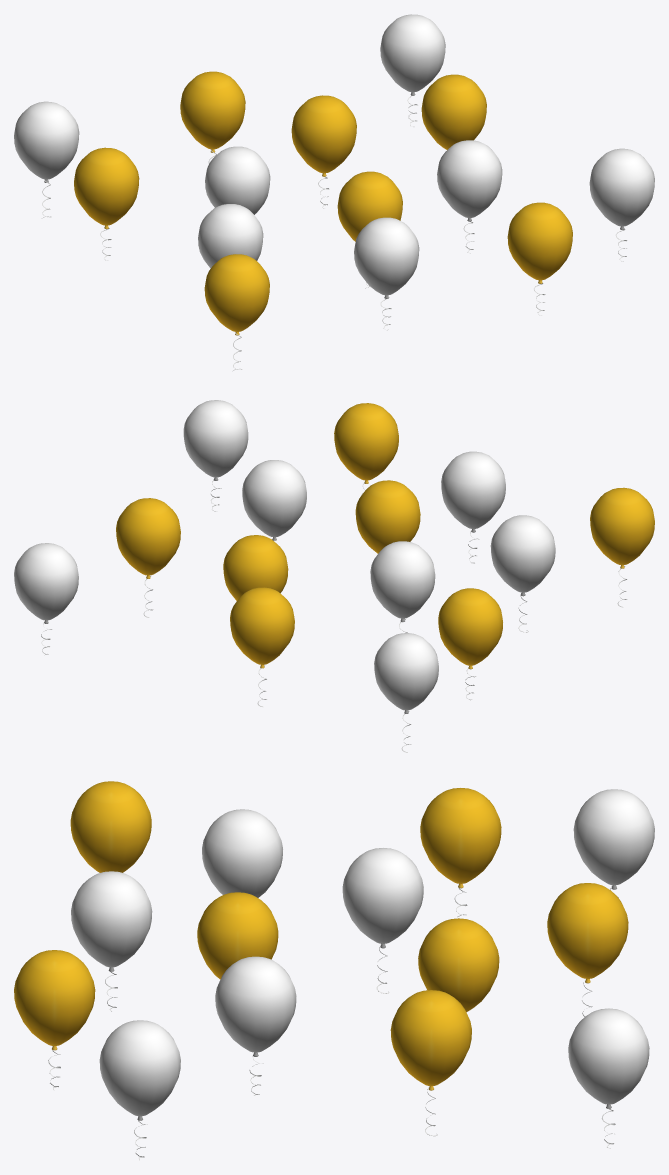
File: PartyBalloons03_GR11_2.FBX
The picture shows the model from 3 angles, top to bottom: view 1: azimuth 30°, elevation 25°; view 2: azimuth 150°, elevation 25°; view 3: azimuth 270°, elevation 25°; orthographic projection. The views are drawn at different scales.
Parts seen in each view (by area): view 1: PartyBalloons03_GR11_2; view 2: PartyBalloons03_GR11_2; view 3: PartyBalloons03_GR11_2.
Part boxes in pixels (box(x1,y1,x2,y2)): PartyBalloons03_GR11_2: box(14, 14, 654, 370); PartyBalloons03_GR11_2: box(14, 400, 654, 752); PartyBalloons03_GR11_2: box(14, 781, 654, 1160).
Size of what is drawn, in the model's own units: 2.82 by 0.6818 by 2.8.
